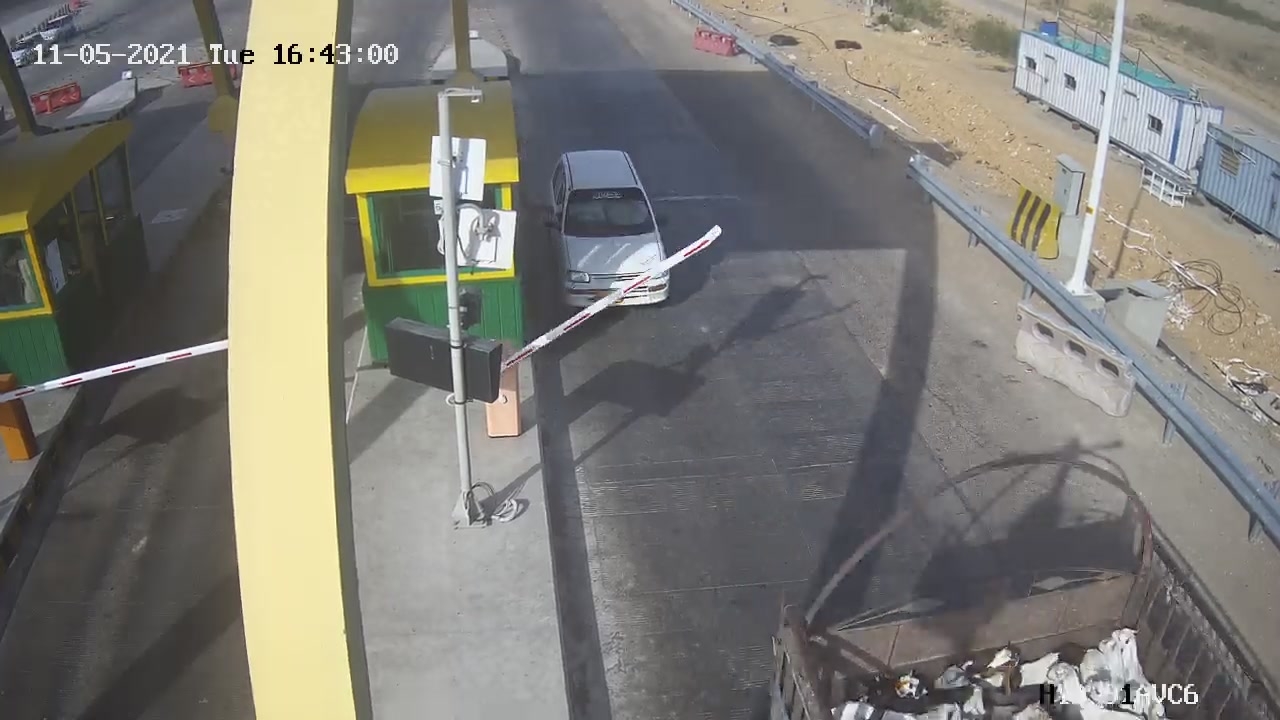F1: (526, 138, 696, 321)
